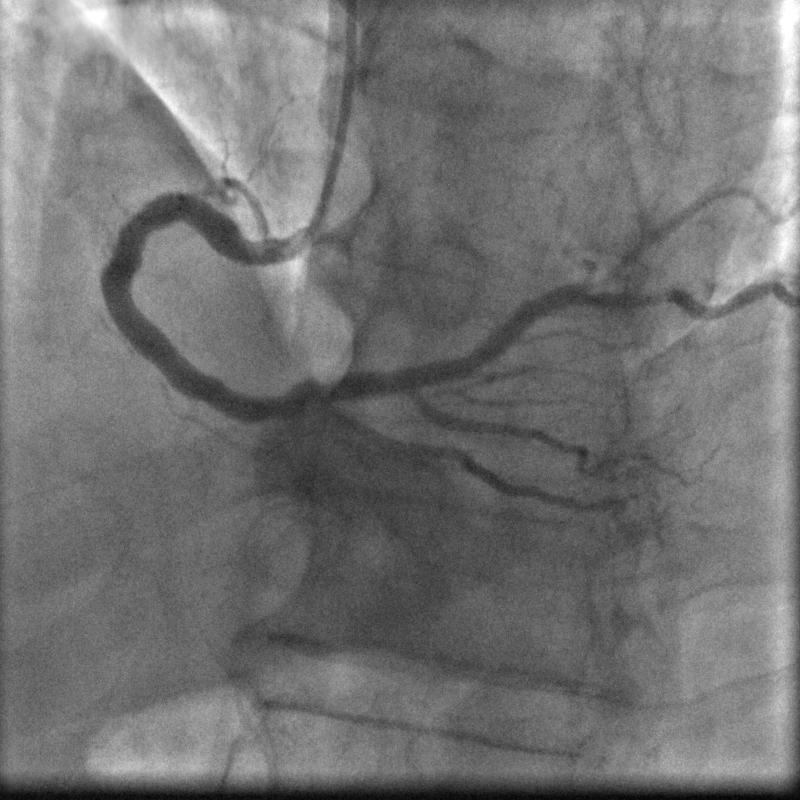Stenosis: (628, 280, 686, 307)
